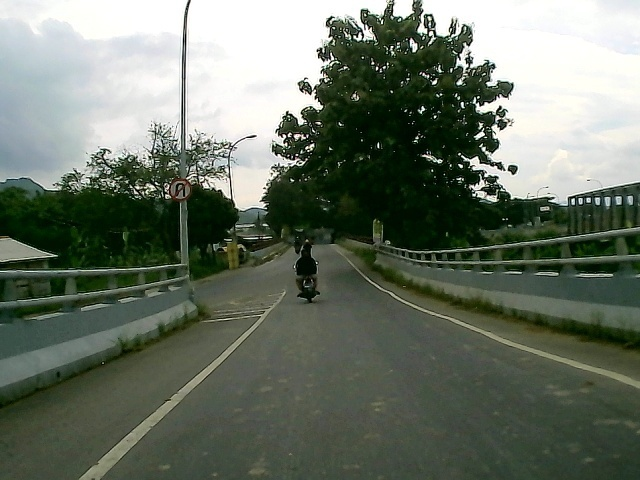Dilarang berbalik arah: (169, 178, 192, 202)
